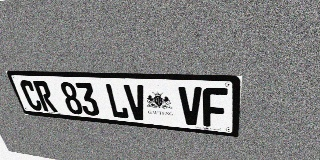3: (75, 82, 100, 116)
8: (58, 82, 84, 115)
C: (18, 80, 44, 111)
F: (203, 87, 228, 128)
L: (104, 83, 130, 119)
R: (32, 81, 58, 112)
V: (178, 86, 203, 126), (123, 84, 149, 121)
